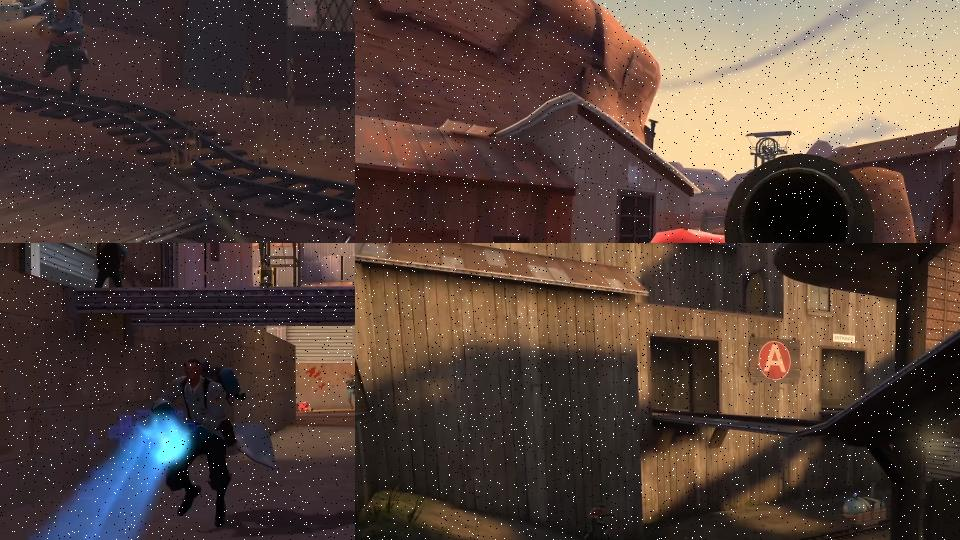Enemy: (617, 148, 933, 243), (150, 359, 276, 531), (31, 0, 91, 103), (96, 243, 125, 291), (586, 504, 612, 539), (347, 373, 355, 408)
